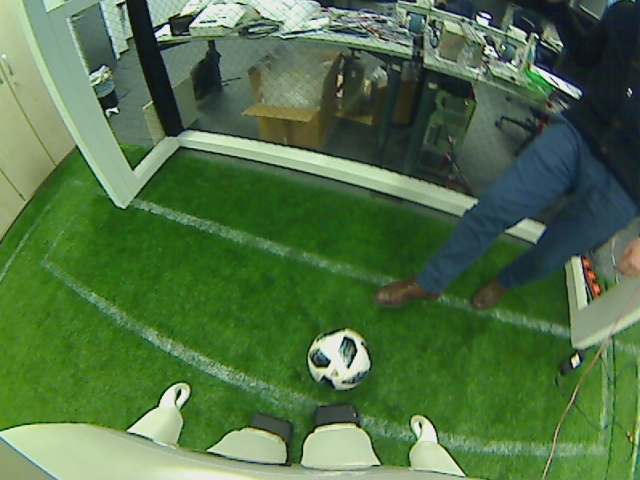ball: (306, 325, 371, 392)
